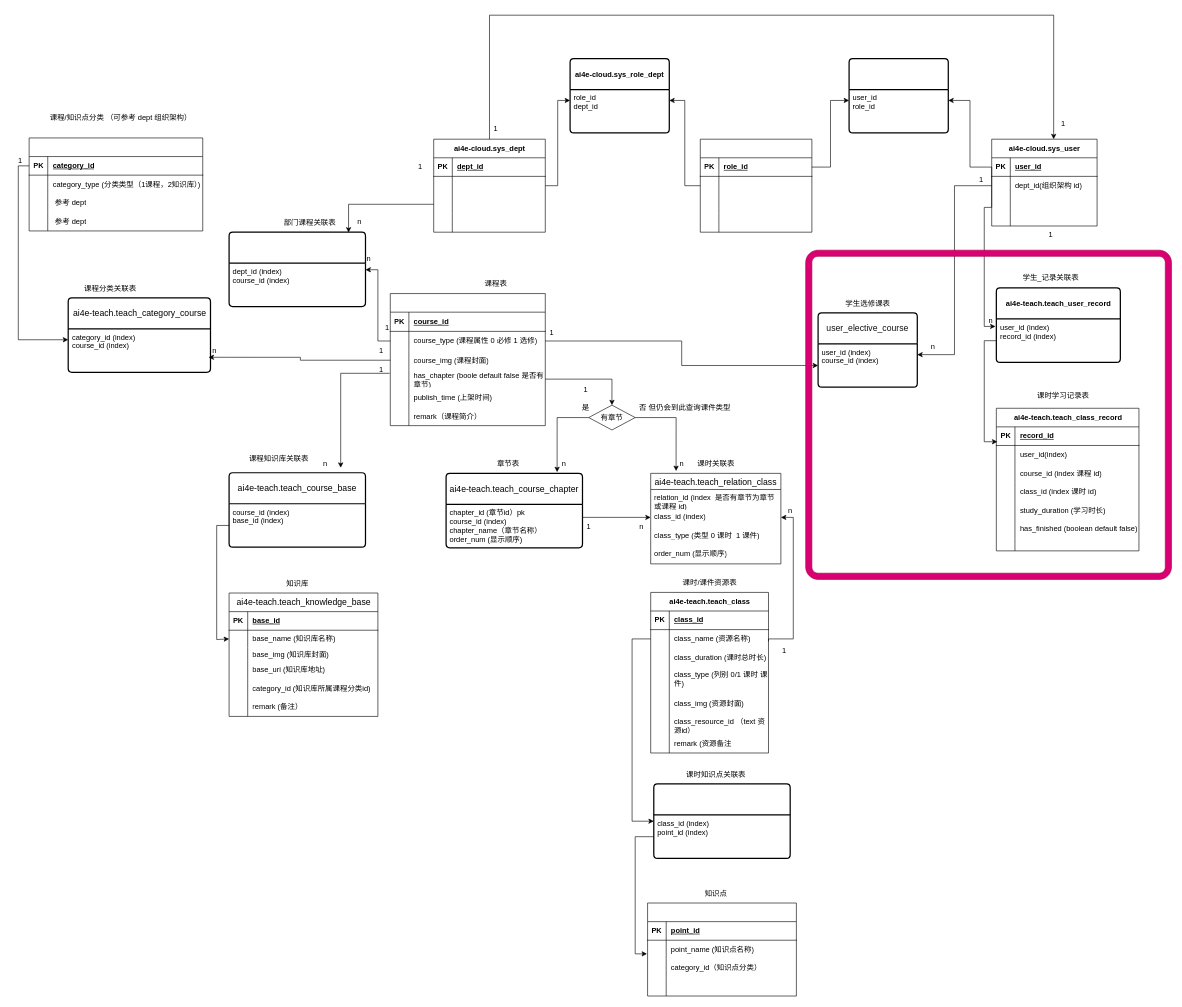
Some shapes in this 1182 by 1007 pixel diagram are drawn without their labels. The shapes that lost their labels are listed below. From the top down, each one's box as (x1, y1, x2, y2) in pixels, then its label:
(848, 58, 949, 133): ai4e-cloud.sys_user_role
(29, 137, 203, 231): ai4e-teach.teach_category
(700, 139, 812, 232): ai4e-cloud.sys_role
(228, 231, 366, 307): ai4e-teach.teach_dept_course
(390, 293, 545, 426): ai4e-teach.teach_course
(653, 783, 790, 859): ai4e-teach.teach_class_point
(647, 902, 796, 996): ai4e-teach.teach_knowledge_point
